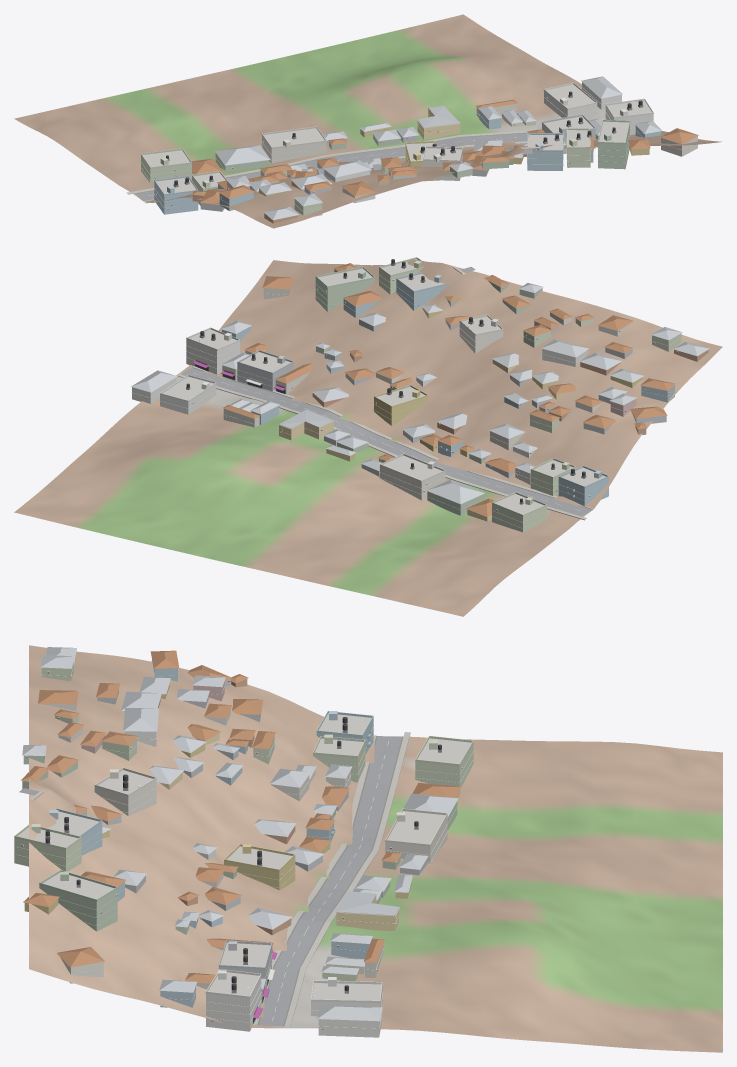
The picture shows the model from 3 angles, top to bottom: view 1: azimuth 30°, elevation 25°; view 2: azimuth 150°, elevation 25°; view 3: azimuth 270°, elevation 25°; orthographic projection. The views are drawn at different scales.
Visible parts, largest first — view 1: Terrain-col, Buildings-col, Details, Roads-col, Sidewalks-col; view 2: Terrain-col, Buildings-col, Details, Roads-col, Sidewalks-col; view 3: Terrain-col, Buildings-col, Details, Roads-col, Sidewalks-col.
Boxes of the visible parts, box(x1,y1,x2,y2) form: Terrain-col: box(14, 14, 721, 228); Buildings-col: box(141, 76, 698, 223); Details: box(140, 82, 691, 212); Roads-col: box(135, 132, 532, 200); Sidewalks-col: box(126, 118, 605, 203); Terrain-col: box(14, 259, 722, 616); Buildings-col: box(131, 259, 709, 532); Details: box(132, 257, 681, 528); Roads-col: box(181, 267, 592, 516); Sidewalks-col: box(177, 266, 595, 520); Terrain-col: box(29, 645, 722, 1052); Buildings-col: box(14, 647, 473, 1037); Details: box(14, 660, 473, 1029); Roads-col: box(19, 736, 403, 1026); Sidewalks-col: box(30, 732, 410, 1026).
Size of the model in its own units: 268 by 55.77 by 262.
